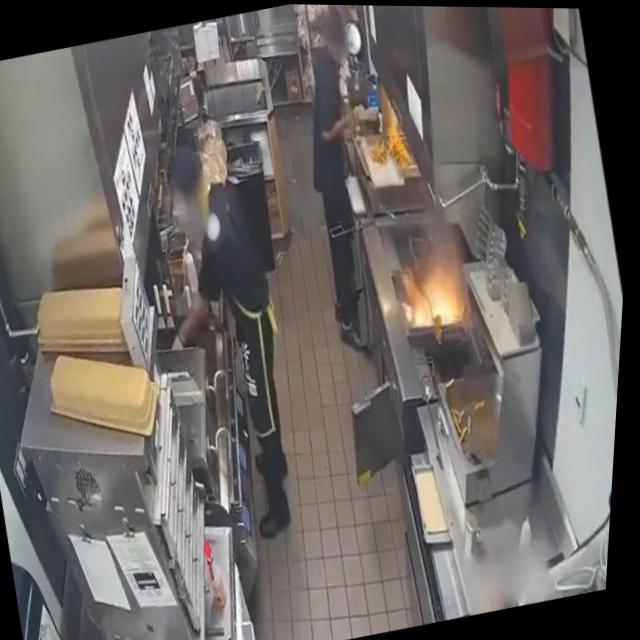fire: (410, 279, 466, 330)
